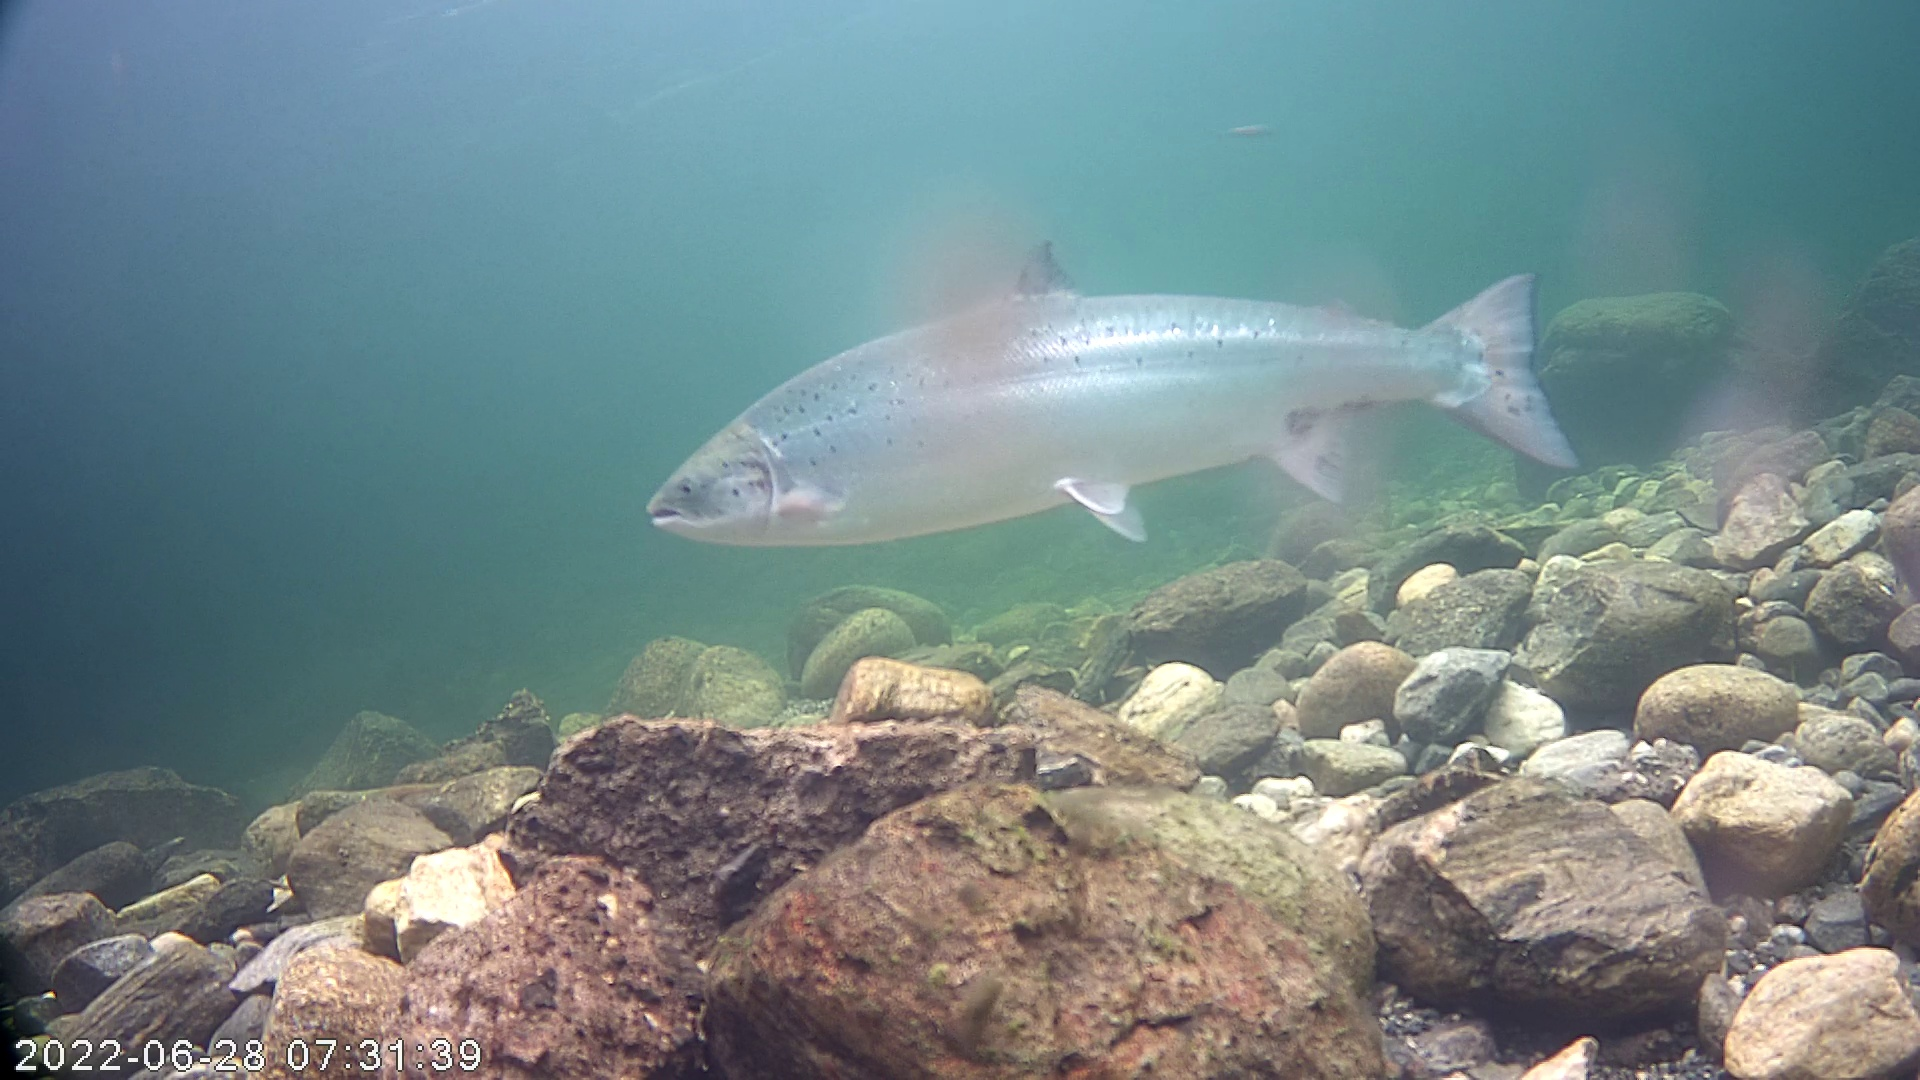salmon: (640, 153, 1601, 593)
